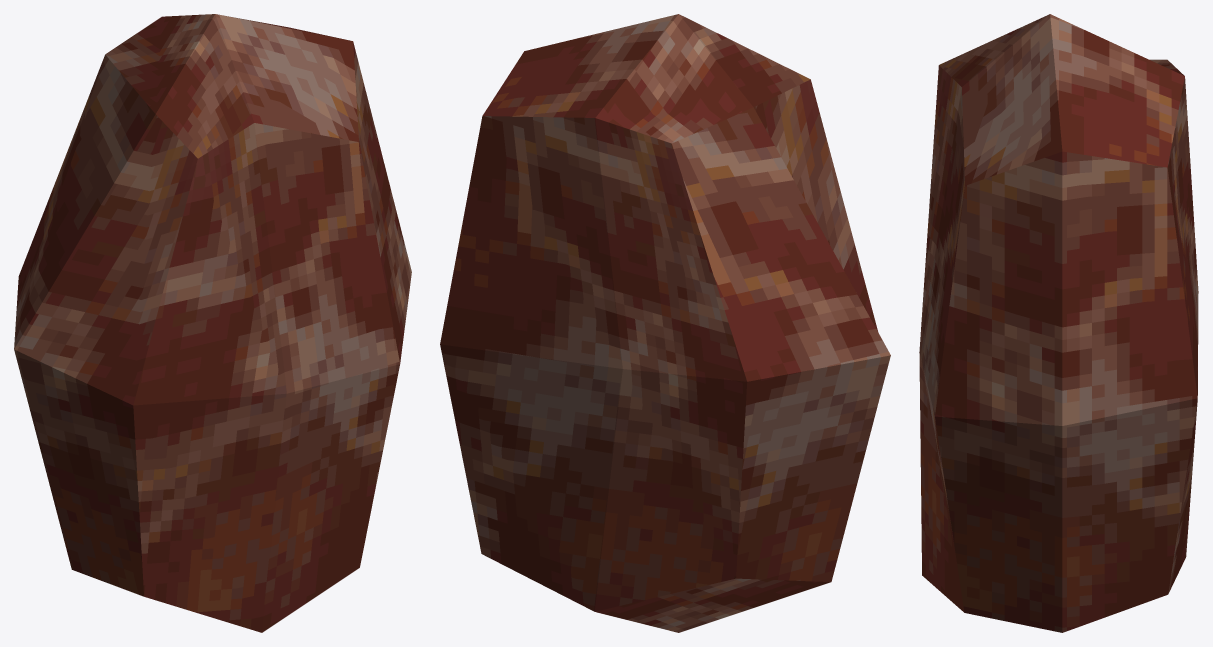
The model's file is meat_slab.glb.
3 renders of one model, left to right at view 1: azimuth 30°, elevation 25°; view 2: azimuth 150°, elevation 25°; view 3: azimuth 270°, elevation 25°, orthographic. The views are drawn at different scales.
Visible parts, largest first — view 1: meat_slab; view 2: meat_slab; view 3: meat_slab.
Part boxes in pixels (x1=…): meat_slab: x1=14, y1=14, x2=411, y2=632; meat_slab: x1=440, y1=14, x2=890, y2=632; meat_slab: x1=919, y1=14, x2=1198, y2=632.
Bounding box in the file's own units: 0.3511 × 0.4965 × 0.2081.
1 material, 1 textured.
